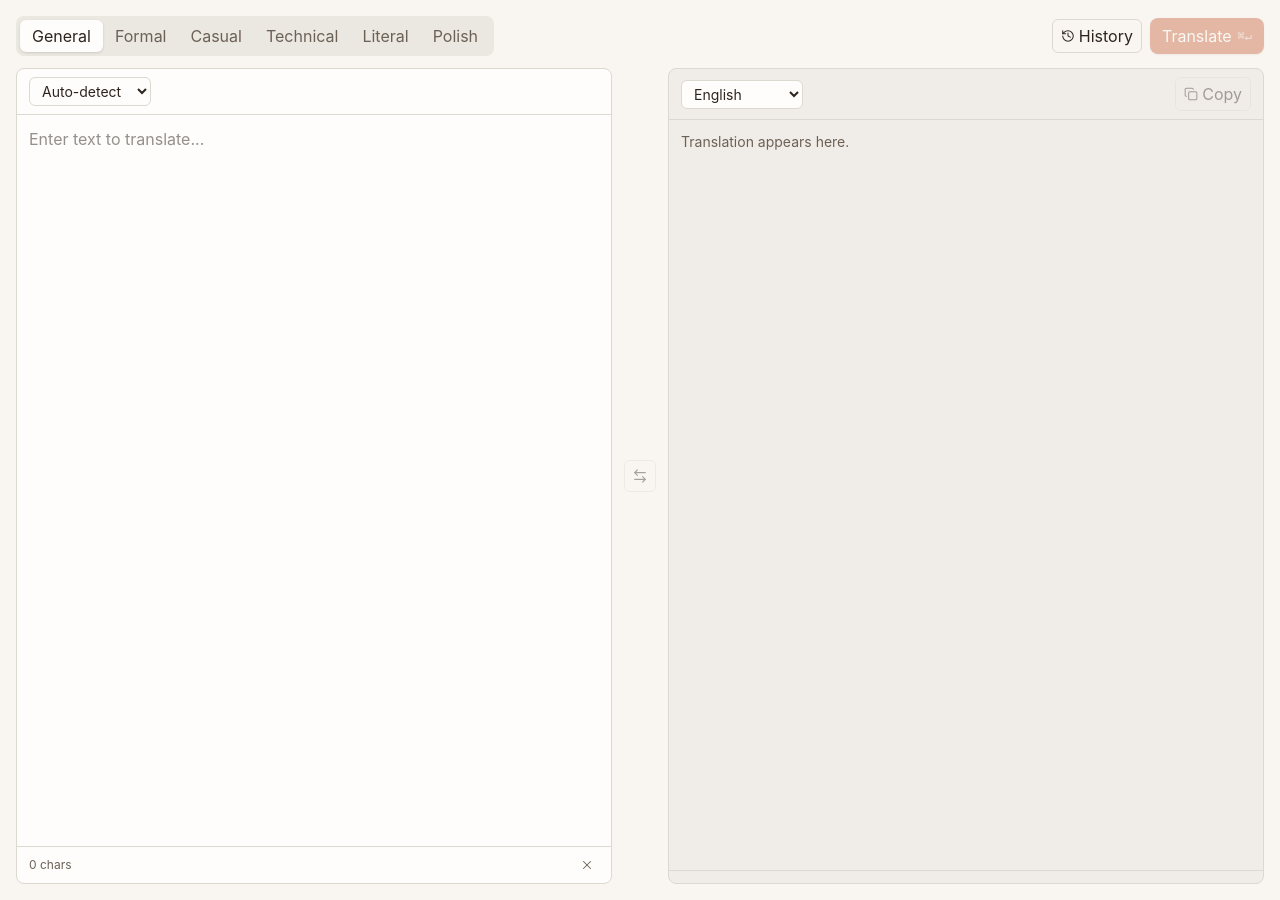
Test case: TranslateTool › Stop leaves partial output marked stopped
Type "你好" into the text box named "Translate input" at {"x": 314, "y": 480}, box [17,115,611,846]
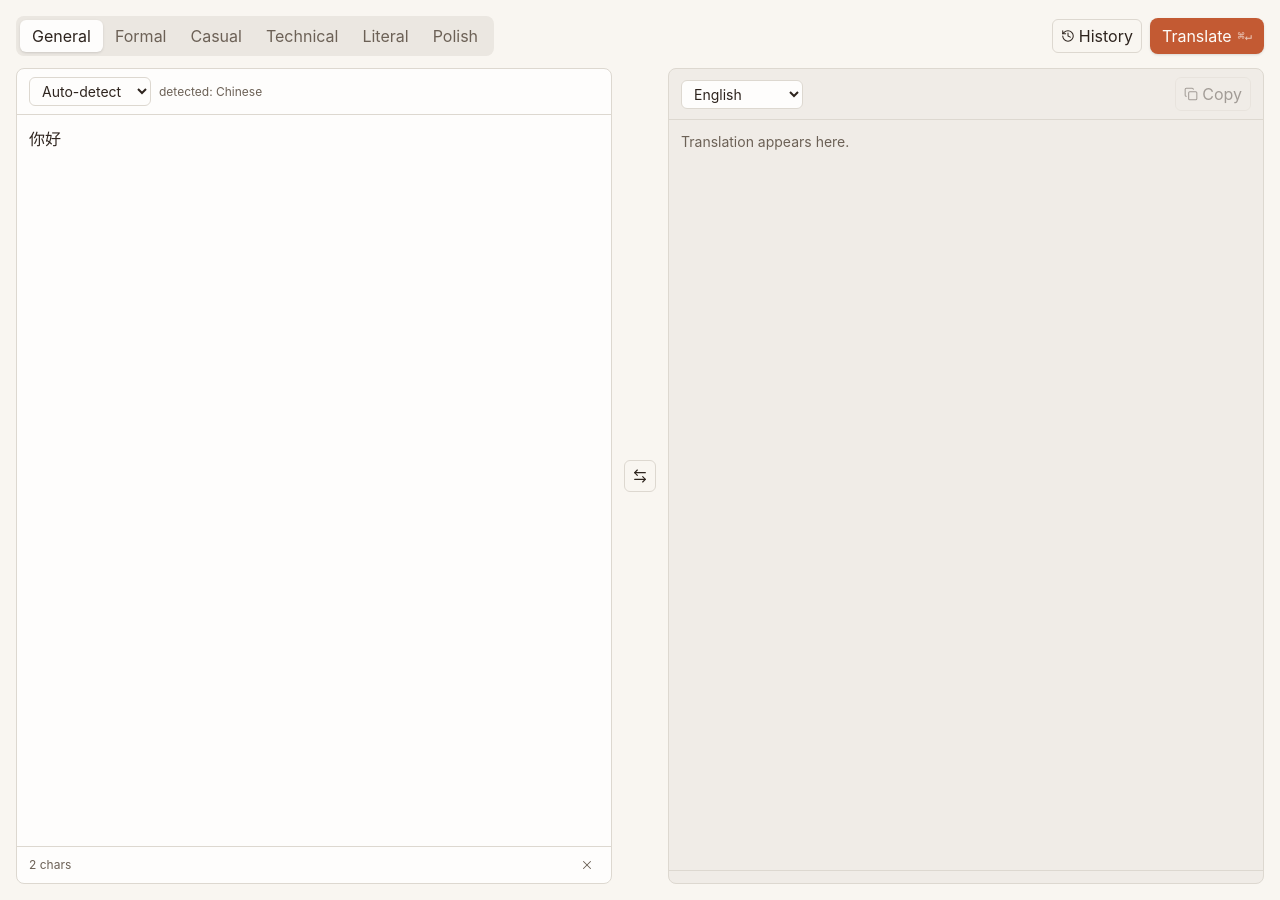
Click the button "Translate ⌘↵" at {"x": 1207, "y": 36}, box [1150,18,1264,54]
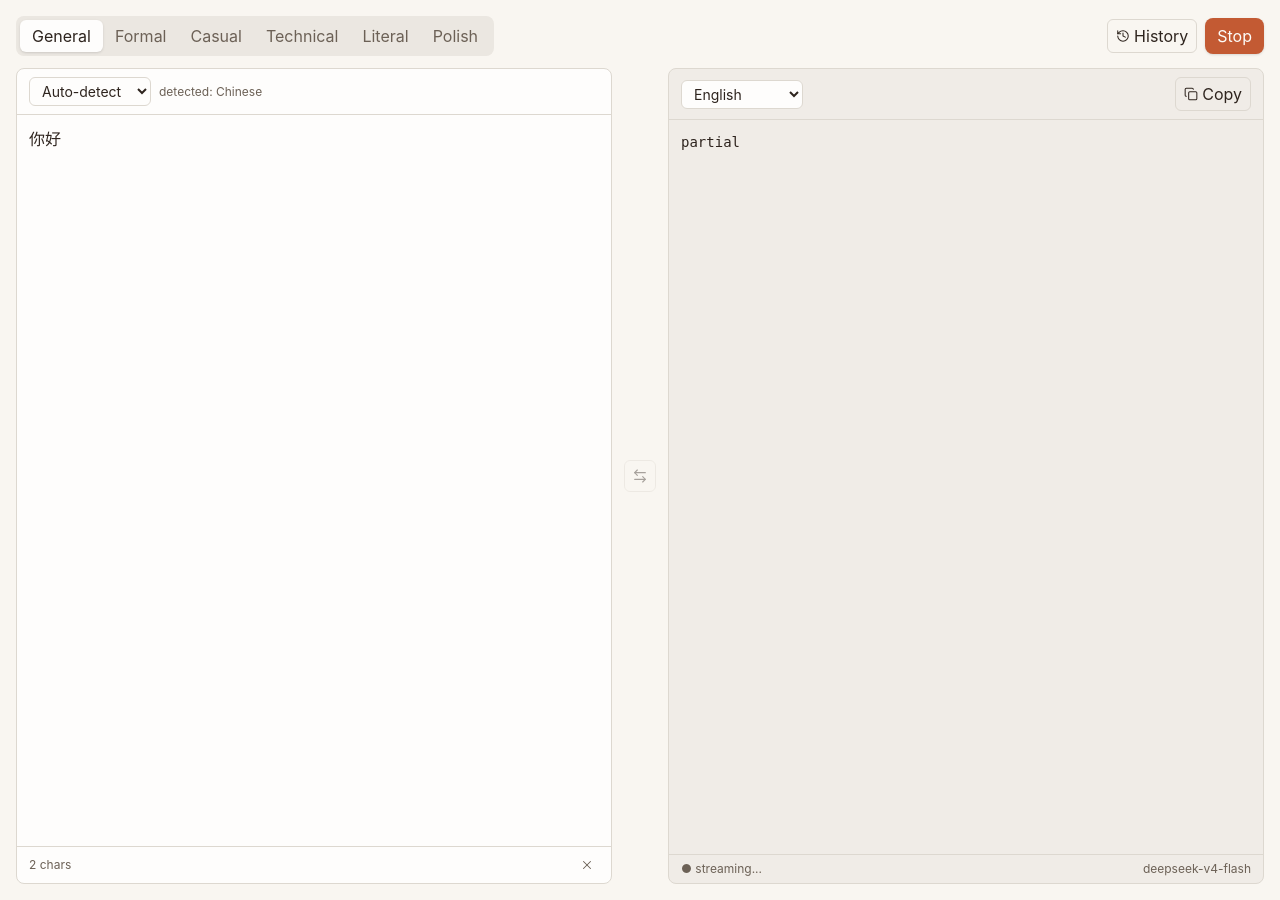
Expected: the text "partial" is shown, [681,134,740,150]
Click the button "Stop" at {"x": 1235, "y": 36}, box [1205,18,1264,54]
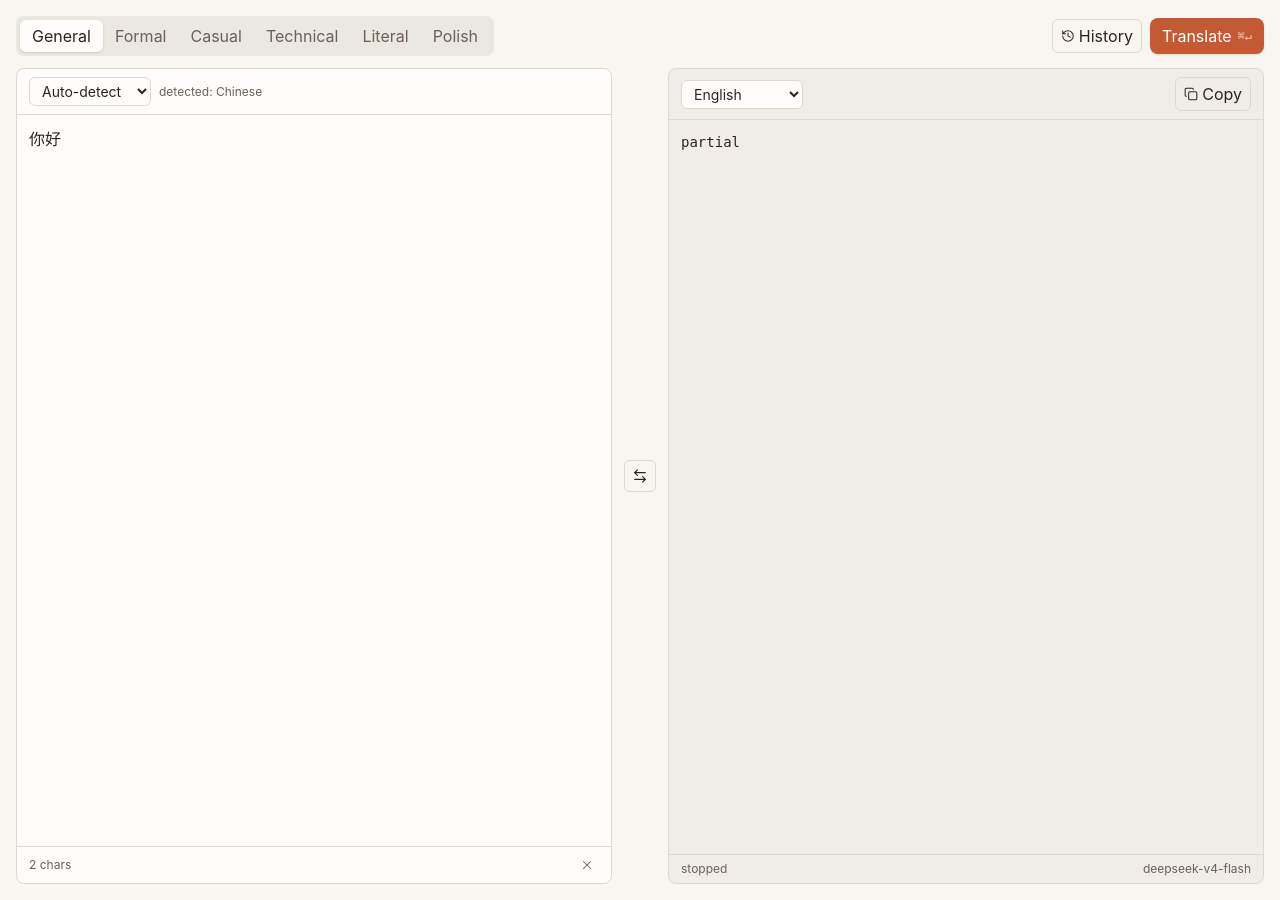
Expected: the text "partial" is shown, [681,134,740,150]
Expected: the text "stopped" is shown, [681,861,727,877]
